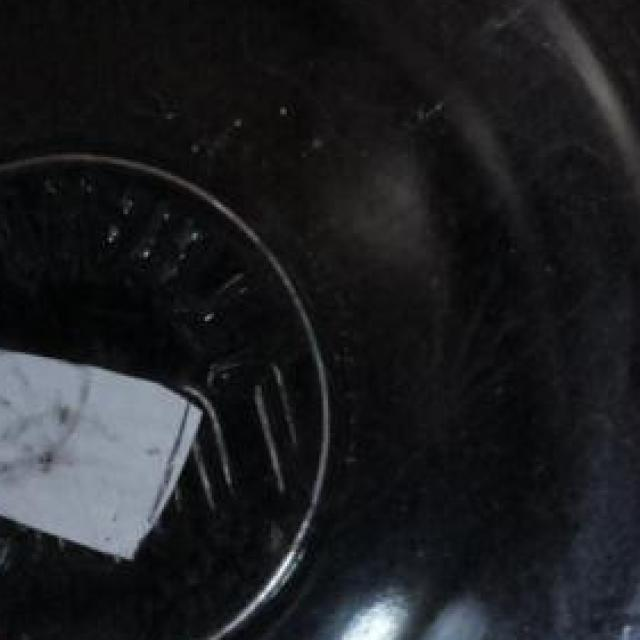Microplastic: (0, 326, 210, 573)
